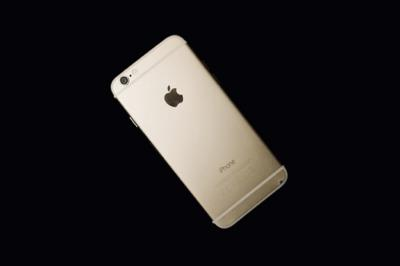cell-phone: (107, 32, 292, 232)
